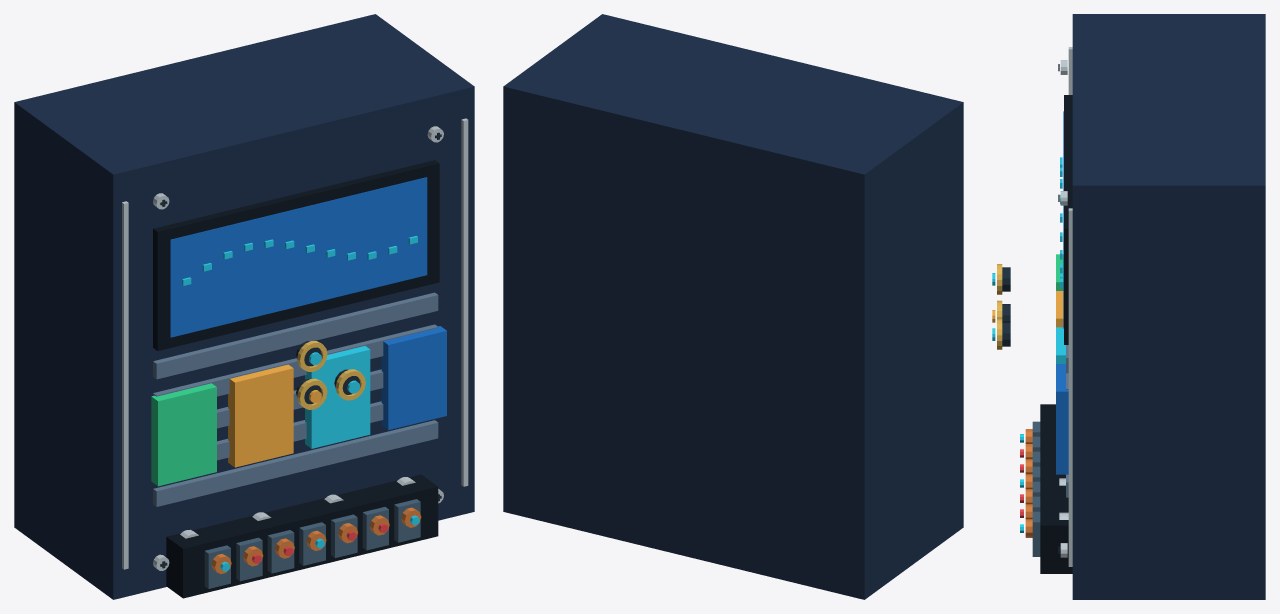
File: 50_L83_PriorityLoadSwitchingRack.fbx
3 renders of one model, left to right at view 1: azimuth 30°, elevation 25°; view 2: azimuth 150°, elevation 25°; view 3: azimuth 270°, elevation 25°, orthographic. The views are drawn at different scales.
Parts seen in each view (by area): view 1: PriorityLoadSwitchingRack; view 2: PriorityLoadSwitchingRack; view 3: PriorityLoadSwitchingRack.
Part boxes in pixels (<box>): PriorityLoadSwitchingRack: <box>14,14,474,599</box>; PriorityLoadSwitchingRack: <box>503,14,963,599</box>; PriorityLoadSwitchingRack: <box>992,14,1265,599</box>.
Bounding box in the file's own units: 160 × 180 × 108.
